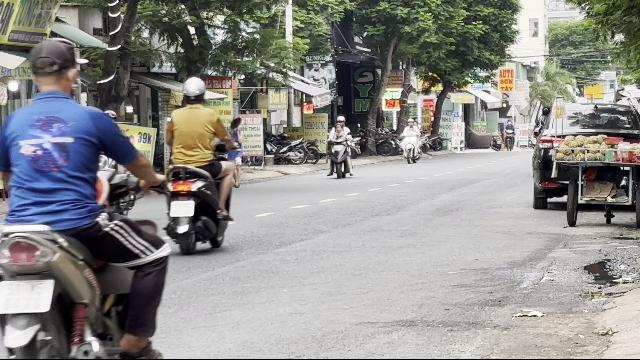helmet: (180, 76, 208, 105)
licenseplate: (1, 280, 54, 312), (170, 200, 193, 216)
motorcyclist: (0, 38, 180, 356), (158, 76, 238, 254)
nohelmet: (25, 40, 81, 96)
